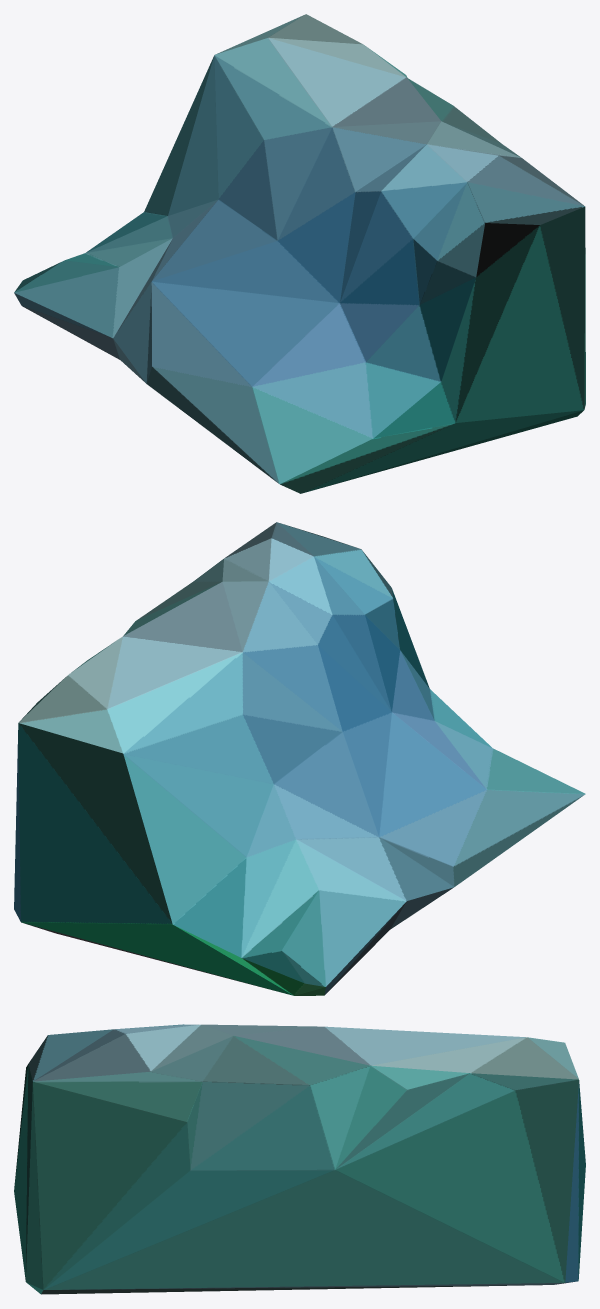
The model's file is tsunami.fbx.
3 renders of one model, top to bottom at view 1: azimuth 30°, elevation 25°; view 2: azimuth 150°, elevation 25°; view 3: azimuth 270°, elevation 25°, orthographic.
Parts seen in each view (by area): view 1: Mesh_0; view 2: Mesh_0; view 3: Mesh_0.
Part boxes in pixels (bbox=[...]): Mesh_0: bbox=[14, 14, 585, 493]; Mesh_0: bbox=[14, 522, 585, 995]; Mesh_0: bbox=[14, 1024, 585, 1294].
Bounding box in the file's own units: 79.8 × 57.9 × 118.
1 material, 1 textured.
